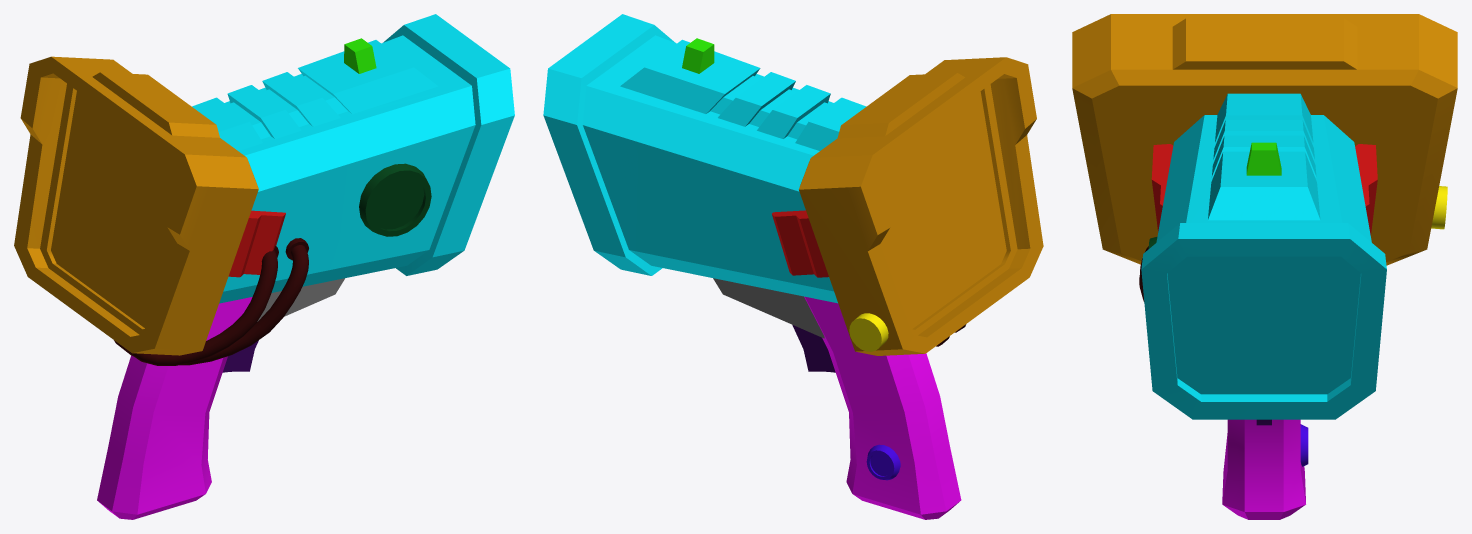
Rendered from scanner_wide.glb.
The picture shows the model from 3 angles, left to right: view 1: azimuth 30°, elevation 25°; view 2: azimuth 150°, elevation 25°; view 3: azimuth 270°, elevation 25°; orthographic projection. The views are drawn at different scales.
Parts seen in each view (by area): view 1: screen_low, base_low, handle_low, side cylinder_low, vamzdis 2_low, vamzdis 1_low, screen support_low, trigger_support_low, scope_low, trigger_low; view 2: base_low, screen_low, handle_low, trigger_support_low, screen support 2_low, mygtukas_low, trigger_low, handle cylinder, scope_low; view 3: base_low, screen_low, handle_low, screen support 2_low, screen support_low, scope_low, mygtukas_low.
Part boxes in pixels (x1,y1,x2,y2): screen_low: (14, 56, 258, 355); base_low: (192, 14, 514, 303); handle_low: (97, 297, 252, 519); side cylinder_low: (359, 163, 431, 236); vamzdis 2_low: (125, 246, 278, 365); vamzdis 1_low: (114, 238, 308, 365); screen support_low: (228, 210, 285, 277); trigger_support_low: (257, 278, 344, 321); scope_low: (344, 38, 376, 73); trigger_low: (222, 340, 258, 372); base_low: (543, 14, 866, 303); screen_low: (799, 57, 1043, 355); handle_low: (804, 296, 961, 519); trigger_support_low: (713, 278, 824, 338); screen support 2_low: (772, 210, 828, 277); mygtukas_low: (849, 313, 888, 351); trigger_low: (792, 325, 835, 372); handle cylinder: (866, 444, 900, 480); scope_low: (682, 38, 714, 73); base_low: (1141, 93, 1386, 419); screen_low: (1072, 14, 1457, 265); handle_low: (1222, 419, 1305, 519); screen support 2_low: (1355, 144, 1377, 235); screen support_low: (1151, 144, 1173, 231); scope_low: (1246, 142, 1281, 175); mygtukas_low: (1431, 186, 1447, 229).
Size of the model in its own units: 0.046 by 0.0461 by 0.0339.
